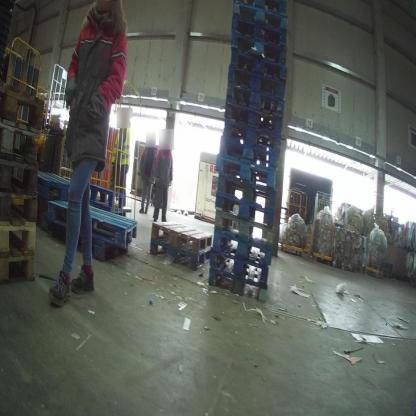pallet: (47, 193, 141, 245), (40, 218, 138, 267), (211, 205, 279, 248), (1, 76, 48, 134), (207, 242, 272, 283), (149, 213, 212, 254), (146, 235, 215, 270), (215, 187, 276, 226), (215, 227, 270, 270), (227, 62, 287, 100), (1, 114, 44, 167), (217, 171, 276, 209), (212, 153, 277, 187), (206, 265, 275, 297), (230, 28, 286, 67), (225, 78, 284, 114), (219, 135, 280, 169), (38, 162, 82, 209), (225, 101, 284, 135), (220, 120, 283, 150), (80, 176, 133, 211), (1, 153, 42, 197), (230, 12, 286, 44), (232, 50, 289, 80), (233, 3, 288, 31), (1, 221, 40, 258), (1, 191, 39, 224), (1, 252, 35, 287), (234, 2, 289, 14)
